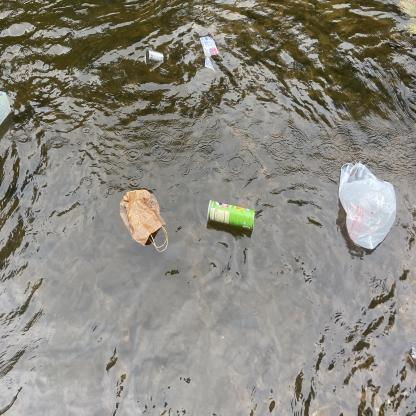trash: (336, 156, 398, 260), (117, 186, 171, 256), (204, 197, 258, 234), (0, 84, 17, 132), (198, 34, 218, 74), (142, 46, 166, 72), (409, 338, 416, 360)
